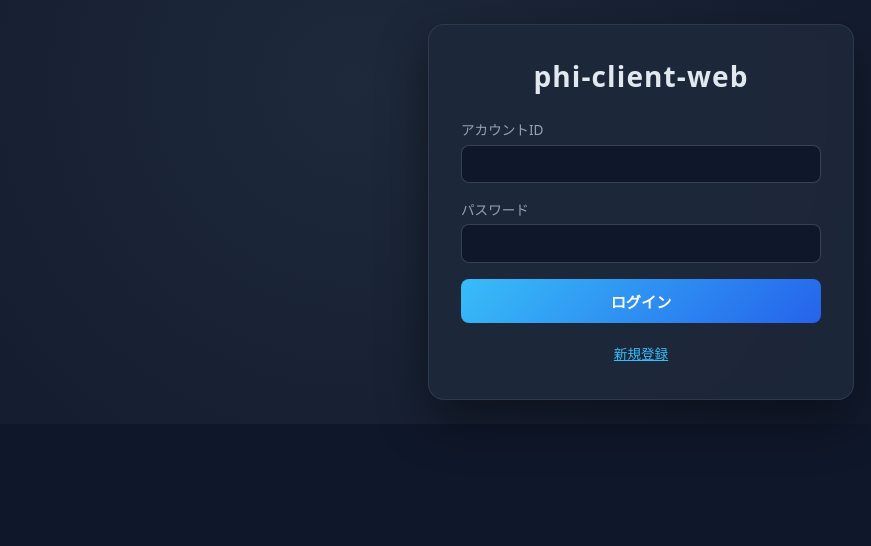
Test: Login (A-34, アカウント+パスワード) › 新規登録: パスワード不一致でエラー(register未呼)
Click the button "新規登録". click: (641, 353)
box: [461,339,821,367]
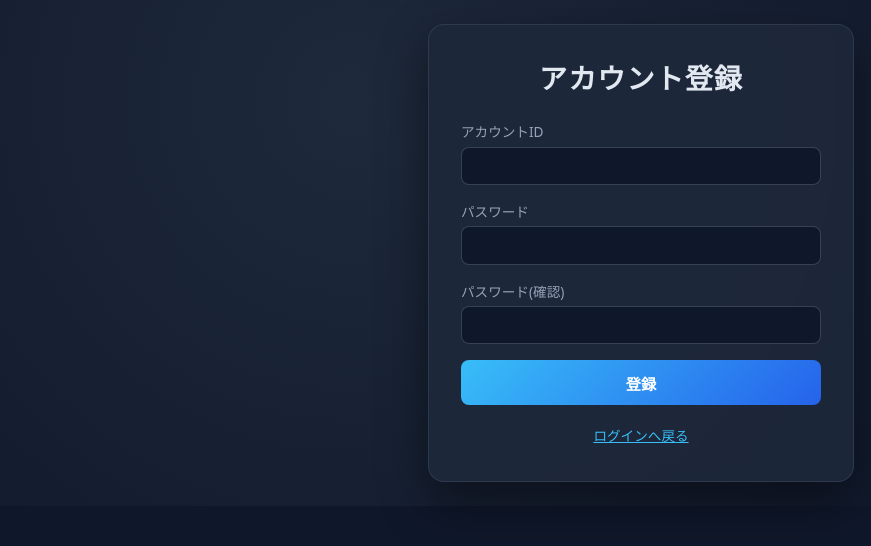
Type "new-acc" into the field labelled "アカウントID". click: (641, 166)
box: [461,147,821,185]
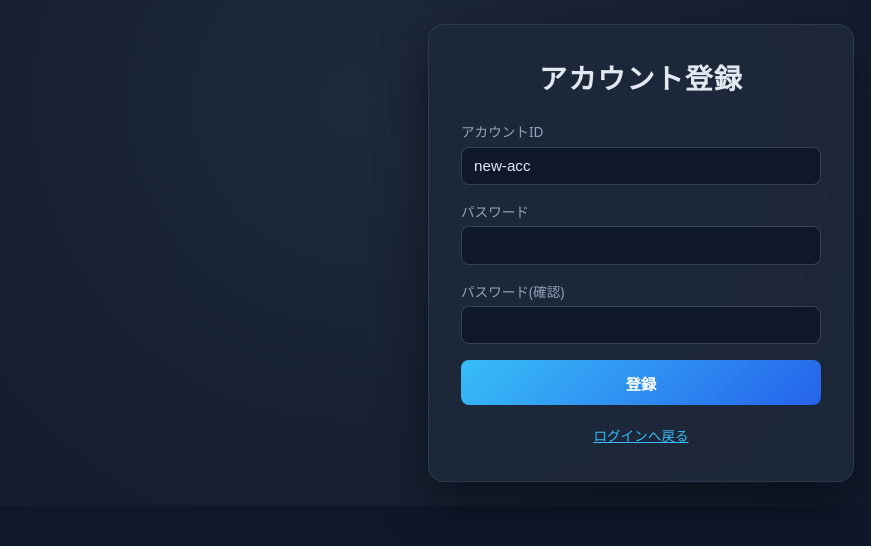
Type "secret" into the password field labelled "パスワード". click: (641, 246)
box: [461,226,821,265]
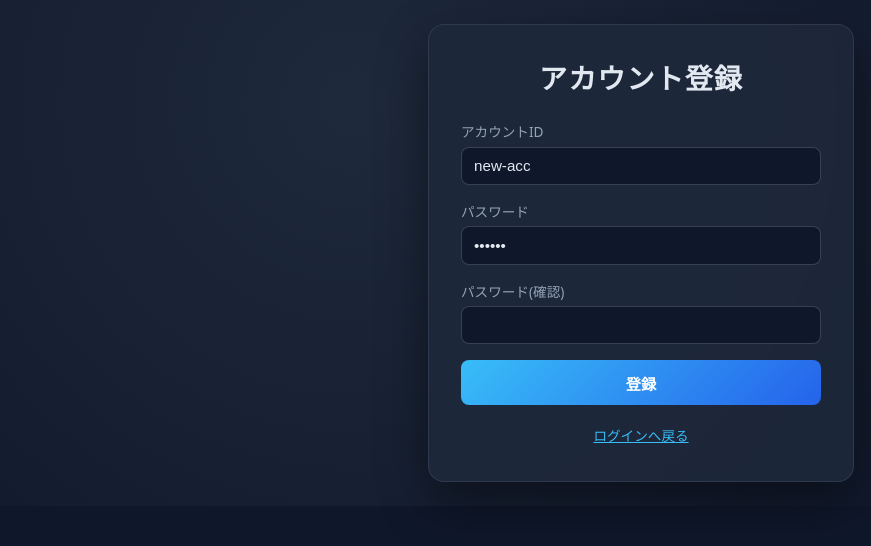
Type "other" into the password field labelled "パスワード(確認)". click: (641, 325)
box: [461,306,821,344]
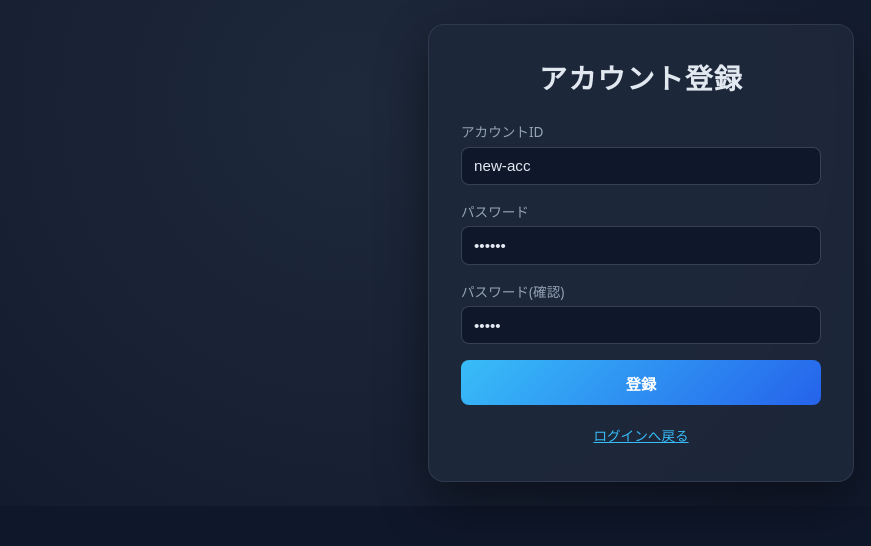
Click the button "登録". click: (641, 382)
box: [461,360,821,405]
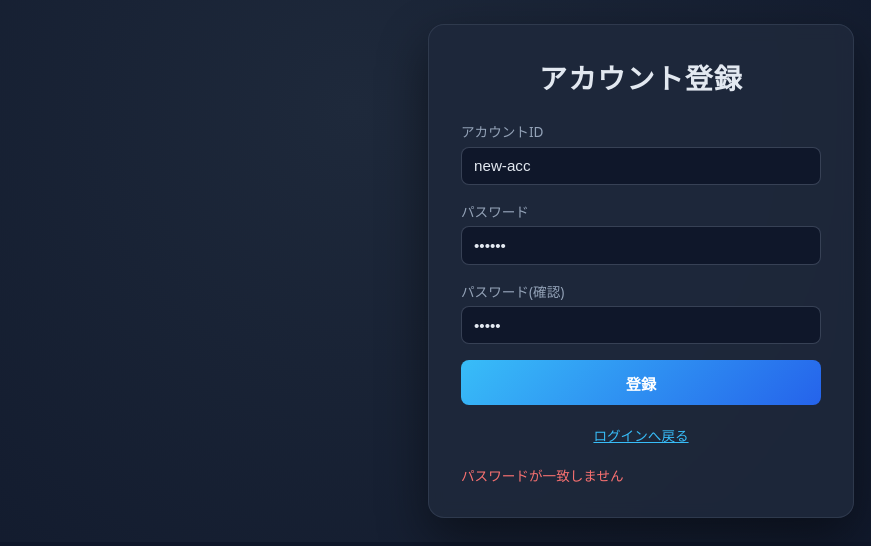
Now the message shows "一致", box [461,466,624,485]
